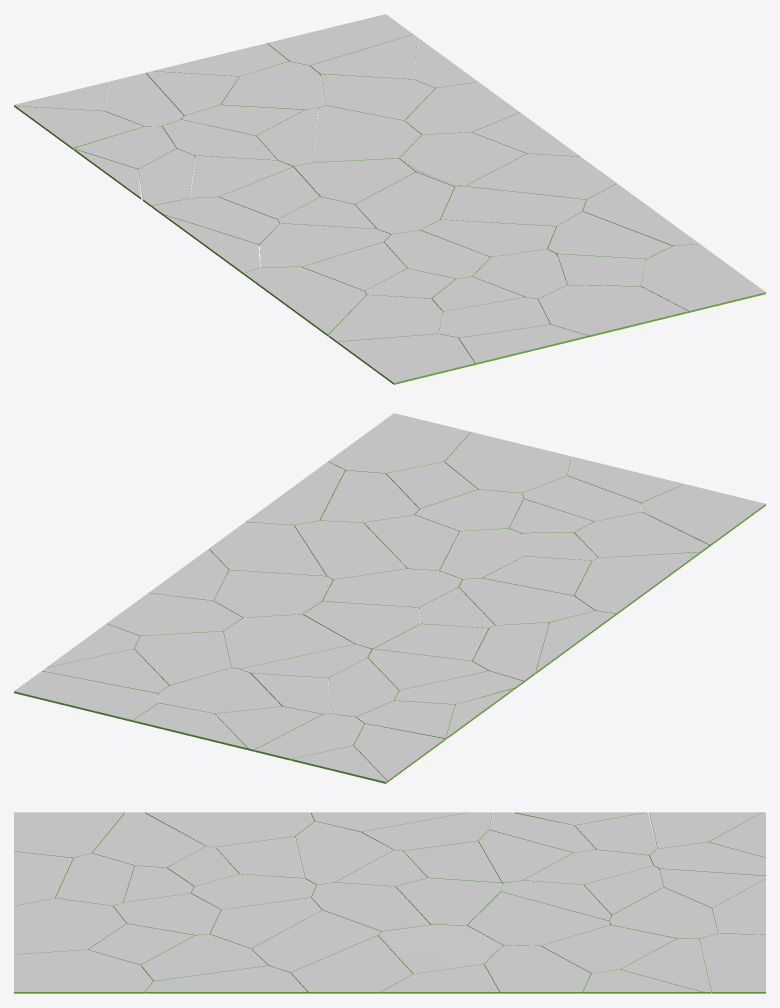
The model's file is vidrios_canvas.fbx.
The picture shows the model from 3 angles, top to bottom: view 1: azimuth 30°, elevation 25°; view 2: azimuth 150°, elevation 25°; view 3: azimuth 270°, elevation 25°; orthographic projection.
Parts seen in each view (by area): view 1: Cube.002_cell.007, Cube.002_cell.003, Cube.002_cell.008, Cube.002_cell.032, Cube.002_cell.004, Cube.002_cell.014, Cube.002_cell.021, Cube.002_cell.009, Cube.002_cell.028, Cube.002_cell.044, Cube.002_cell.030, Cube.002_cell.013 (+34 smaller); view 2: Cube.002_cell.007, Cube.002_cell.003, Cube.002_cell.008, Cube.002_cell.004, Cube.002_cell.014, Cube.002_cell.021, Cube.002_cell.032, Cube.002_cell.009, Cube.002_cell.028, Cube.002_cell.044, Cube.002_cell.030, Cube.002_cell.013 (+34 smaller); view 3: Cube.002_cell.007, Cube.002_cell.003, Cube.002_cell.008, Cube.002_cell.014, Cube.002_cell.004, Cube.002_cell.021, Cube.002_cell.009, Cube.002_cell.032, Cube.002_cell.030, Cube.002_cell.028, Cube.002_cell.044, Cube.002_cell.013 (+34 smaller).
Part boxes in pixels (left/top/right/bottom): Cube.002_cell.007: left=641, top=244, right=765, bottom=312; Cube.002_cell.003: left=538, top=285, right=688, bottom=337; Cube.002_cell.008: left=312, top=105, right=421, bottom=162; Cube.002_cell.032: left=338, top=334, right=474, bottom=384; Cube.002_cell.004: left=399, top=132, right=526, bottom=187; Cube.002_cell.014: left=466, top=153, right=616, bottom=200; Cube.002_cell.021: left=244, top=267, right=366, bottom=336; Cube.002_cell.009: left=441, top=186, right=585, bottom=227; Cube.002_cell.028: left=260, top=223, right=390, bottom=267; Cube.002_cell.044: left=328, top=295, right=442, bottom=343; Cube.002_cell.030: left=405, top=82, right=520, bottom=134; Cube.002_cell.013: left=355, top=172, right=454, bottom=234; Cube.002_cell.007: left=328, top=413, right=470, bottom=473; Cube.002_cell.003: left=444, top=432, right=571, bottom=494; Cube.002_cell.008: left=223, top=614, right=354, bottom=669; Cube.002_cell.004: left=214, top=570, right=332, bottom=617; Cube.002_cell.014: left=209, top=522, right=326, bottom=576; Cube.002_cell.021: left=574, top=552, right=699, bottom=614; Cube.002_cell.032: left=641, top=484, right=765, bottom=546; Cube.002_cell.009: left=294, top=521, right=407, bottom=580; Cube.002_cell.028: left=459, top=578, right=594, bottom=625; Cube.002_cell.044: left=574, top=512, right=709, bottom=557; Cube.002_cell.030: left=107, top=593, right=242, bottom=636; Cube.002_cell.013: left=323, top=569, right=462, bottom=608; Cube.002_cell.007: left=14, top=949, right=153, bottom=993; Cube.002_cell.003: left=14, top=898, right=126, bottom=954; Cube.002_cell.008: left=467, top=892, right=610, bottom=945; Cube.002_cell.014: left=291, top=935, right=412, bottom=993; Cube.002_cell.004: left=378, top=925, right=503, bottom=973; Cube.002_cell.021: left=145, top=812, right=314, bottom=847; Cube.002_cell.009: left=251, top=910, right=381, bottom=972; Cube.002_cell.032: left=14, top=812, right=124, bottom=858; Cube.002_cell.030: left=484, top=945, right=590, bottom=993; Cube.002_cell.028: left=295, top=821, right=393, bottom=885; Cube.002_cell.044: left=92, top=812, right=205, bottom=867; Cube.002_cell.013: left=311, top=882, right=430, bottom=931.
Bounding box in the file's own units: 124 × 0.8067 × 219.
